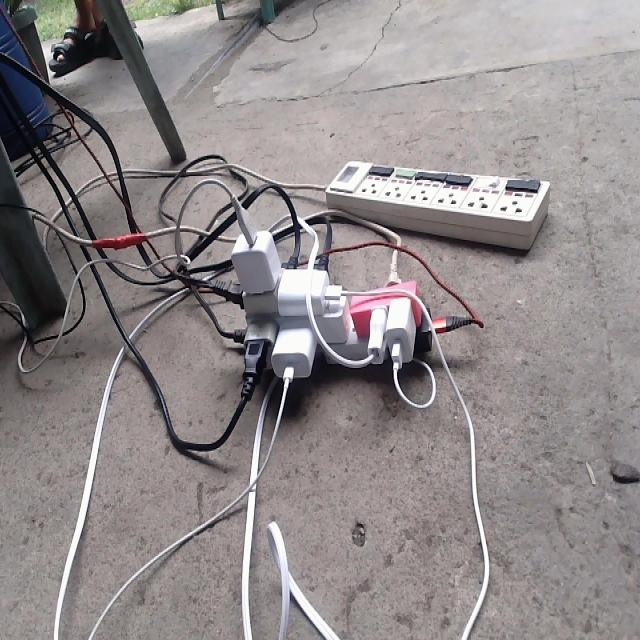-: (224, 215, 440, 397)
